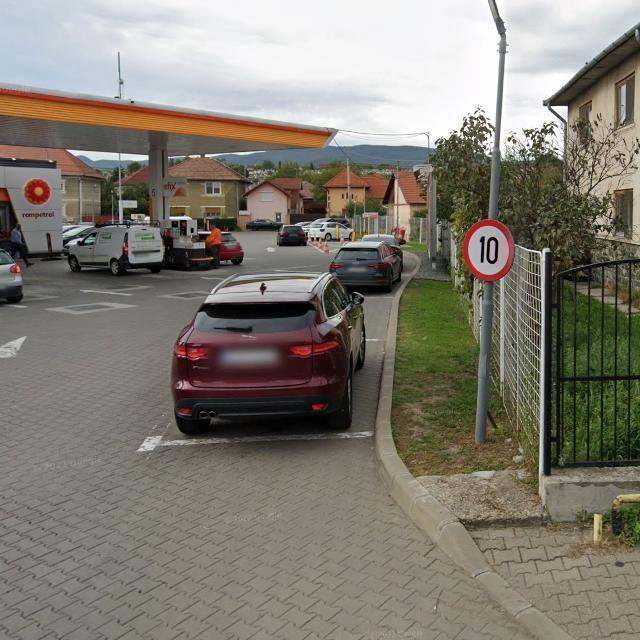forb_speed_over_10: (464, 220, 514, 281)
